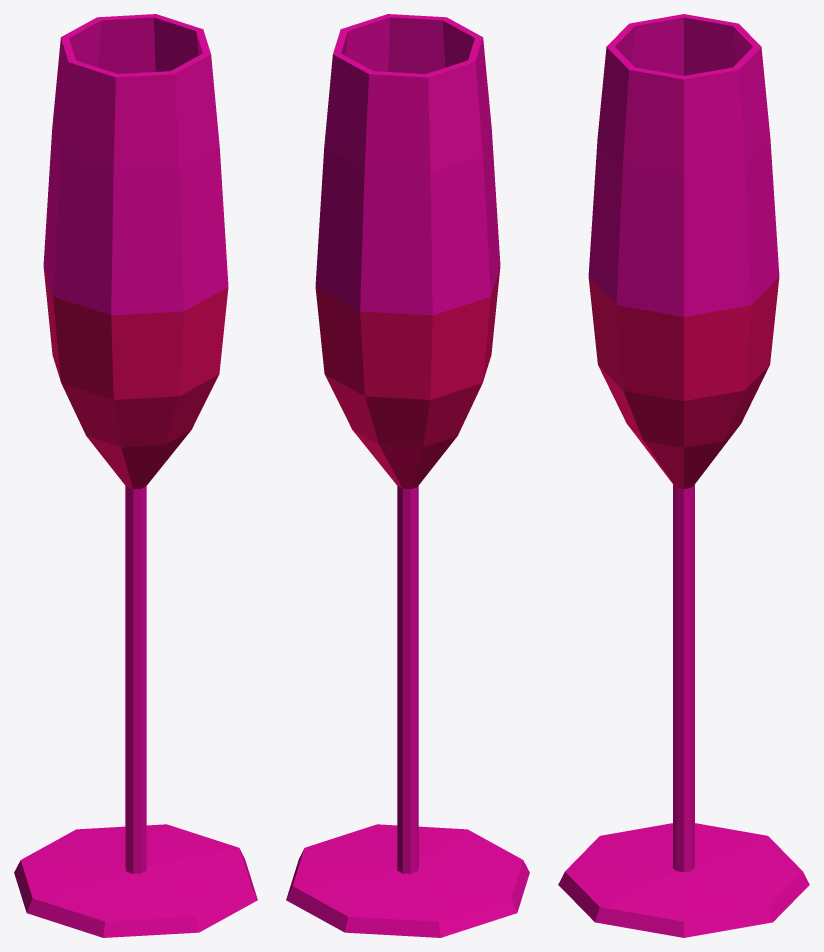
Rendered from GlassOfChampagne_01.fbx.
The picture shows the model from 3 angles, left to right: view 1: azimuth 30°, elevation 25°; view 2: azimuth 150°, elevation 25°; view 3: azimuth 270°, elevation 25°; orthographic projection.
Parts seen in each view (by area): view 1: GlassOfChampagne_01; view 2: GlassOfChampagne_01; view 3: GlassOfChampagne_01.
Boxes of the visible parts, <box> form: GlassOfChampagne_01: <box>14,14,257,937</box>; GlassOfChampagne_01: <box>286,14,529,937</box>; GlassOfChampagne_01: <box>558,14,809,937</box>.
Size of the model in its own units: 1.42 by 5.21 by 1.42.
